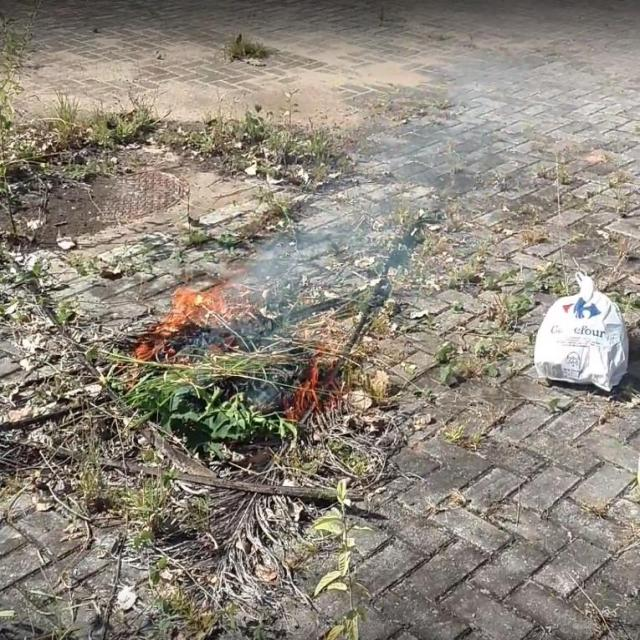Fire: (132, 281, 232, 364), (281, 352, 331, 425)
